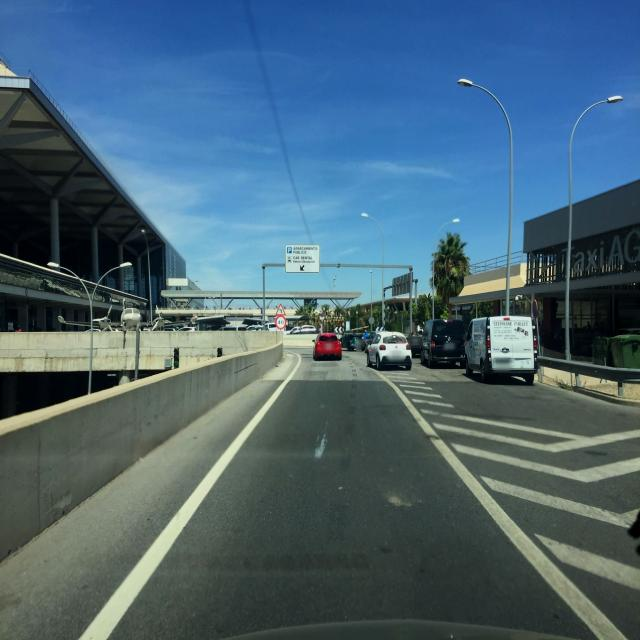car: (464, 315, 538, 385), (420, 318, 467, 368), (366, 331, 412, 371), (312, 332, 342, 361), (406, 332, 424, 358), (361, 331, 377, 351)
